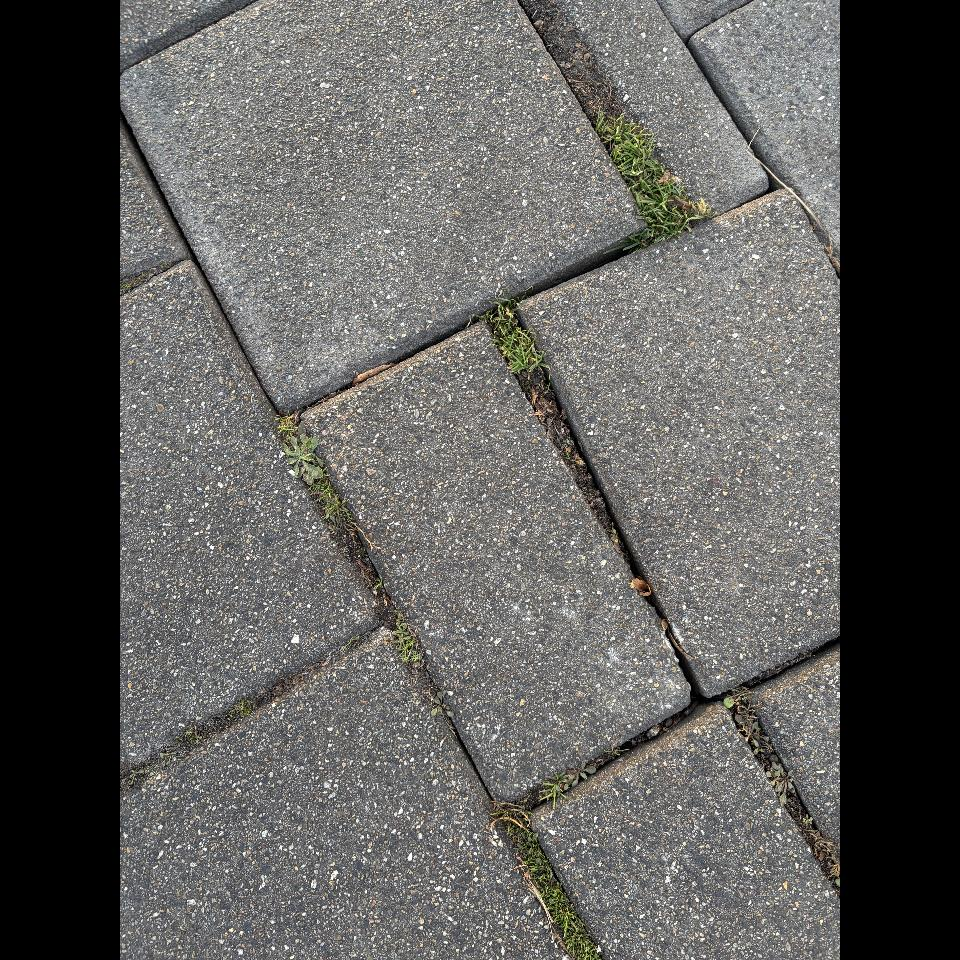weed: (492, 804, 601, 960), (596, 112, 716, 250), (724, 687, 795, 805), (476, 297, 544, 374), (539, 764, 596, 810), (284, 430, 324, 485), (310, 483, 353, 534), (392, 612, 422, 666), (430, 691, 453, 717), (277, 410, 296, 434)
